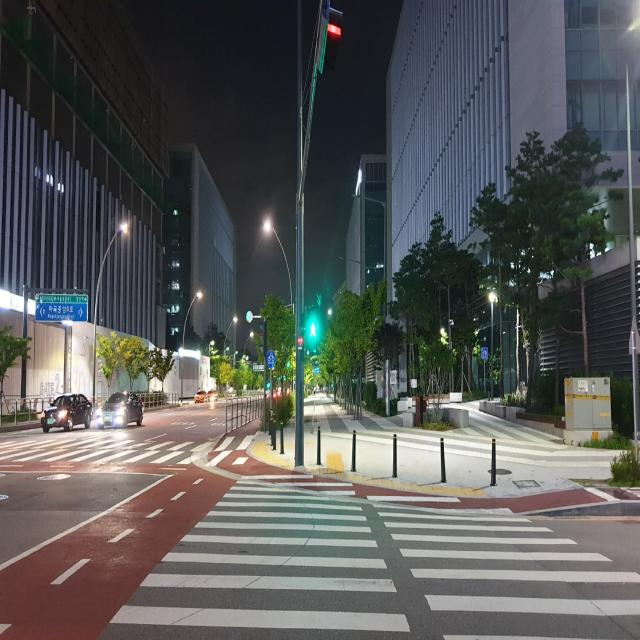초록불: (307, 308, 317, 352)
횡단보도: (108, 470, 640, 640), (0, 436, 243, 467)
